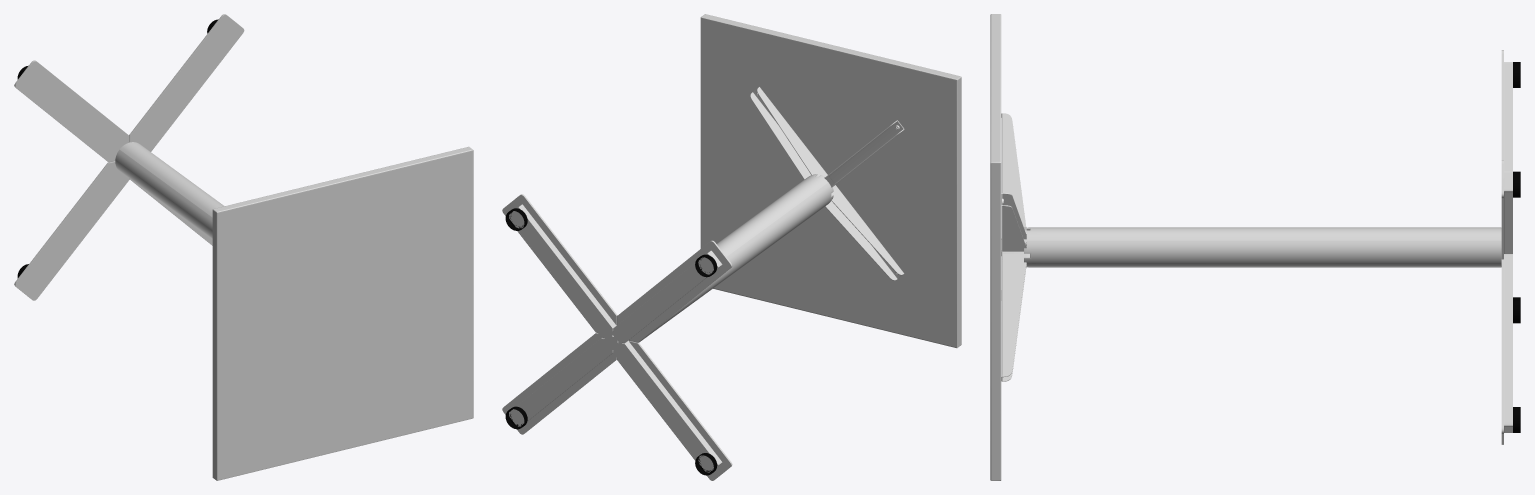
File: SM_Stehtisch.obj
3 renders of one model, left to right at view 1: azimuth 30°, elevation 25°; view 2: azimuth 150°, elevation 25°; view 3: azimuth 270°, elevation 25°, orthographic. The views are drawn at different scales.
Visible parts, largest first — view 1: SM_Stehtisch; view 2: SM_Stehtisch; view 3: SM_Stehtisch.
Part boxes in pixels (bbox=[...]): SM_Stehtisch: bbox=[14, 14, 473, 480]; SM_Stehtisch: bbox=[502, 14, 961, 480]; SM_Stehtisch: bbox=[990, 14, 1520, 480].
Bounding box in the file's own units: 0.7001 × 0.7001 × 1.06.
Materials: 3 (1 with a texture image).
